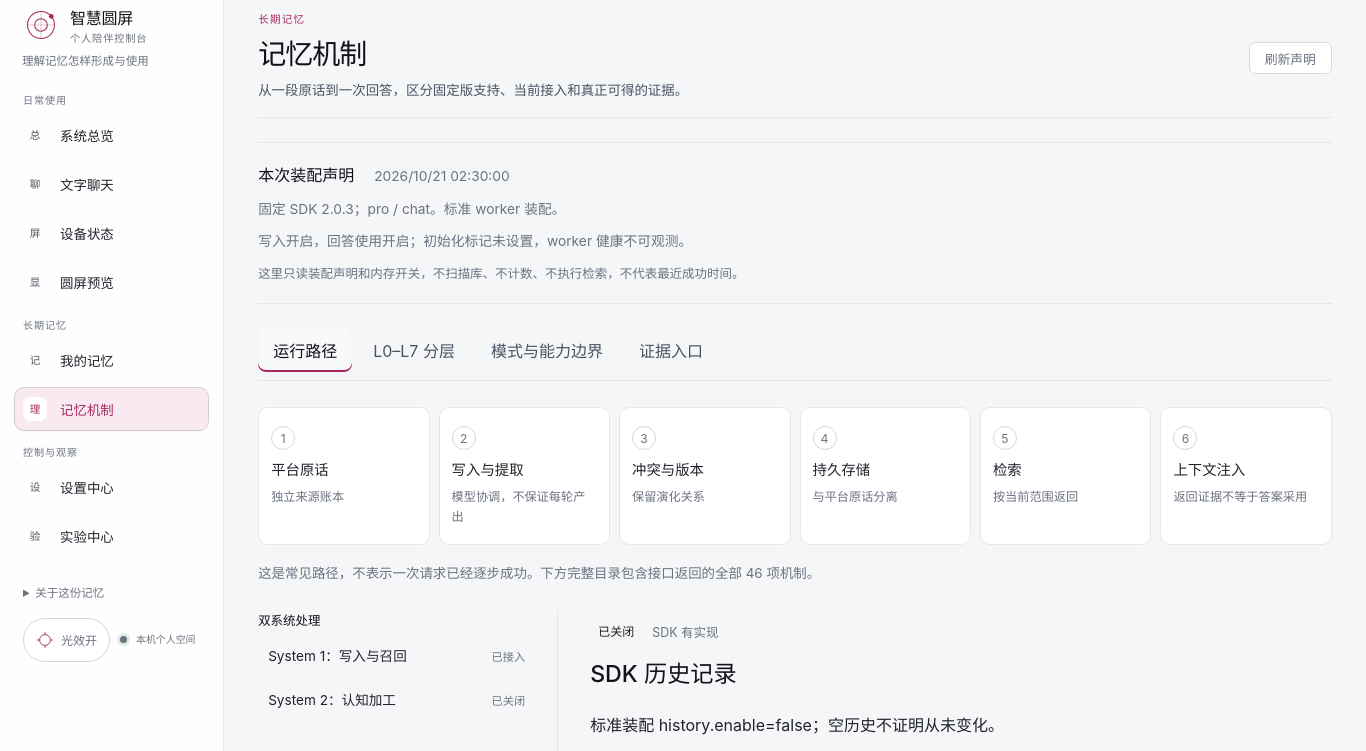
Test: SDK历史关闭与平台审计分开，注入缺口如实说明
Click the button "证据入口". click: (671, 350)
box: [624,328,718,372]
(page scrolled)
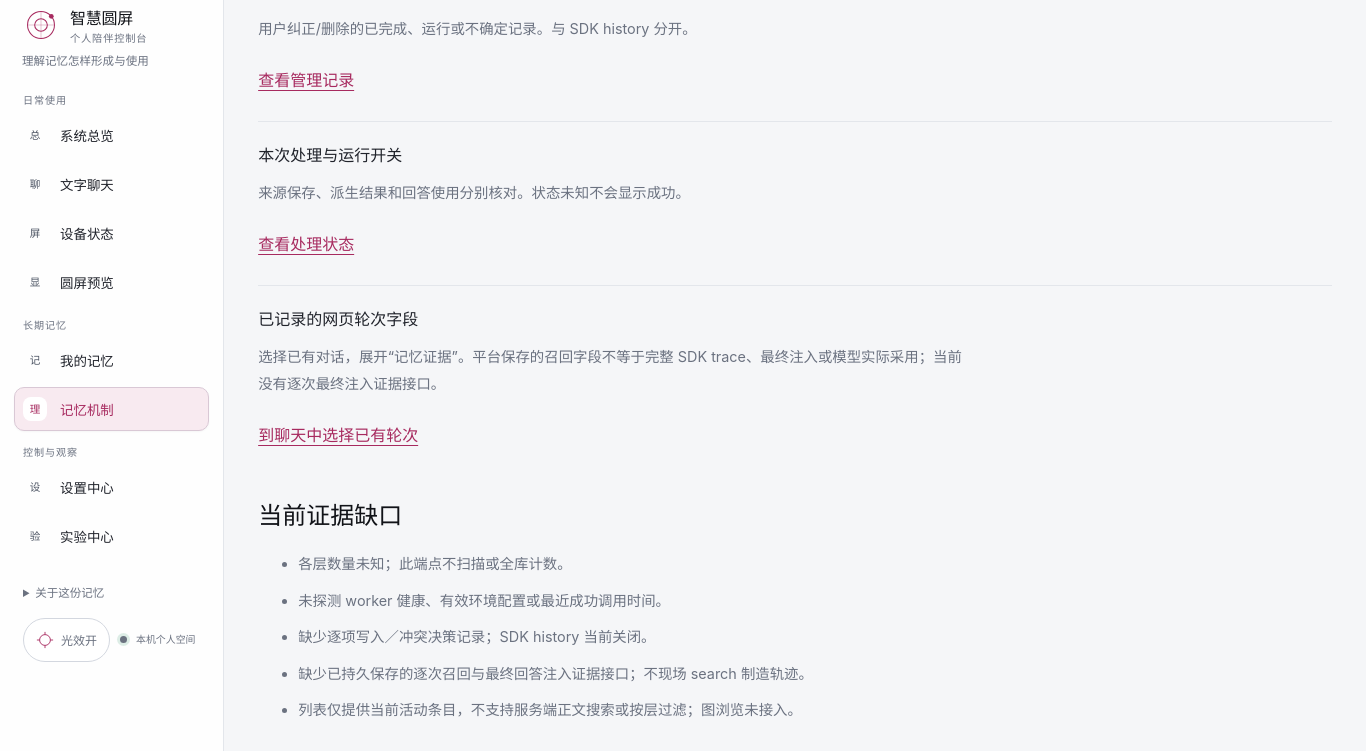
Expected: the text "没有逐次最终注入证据接口" is shown, [258,348,962,392]
